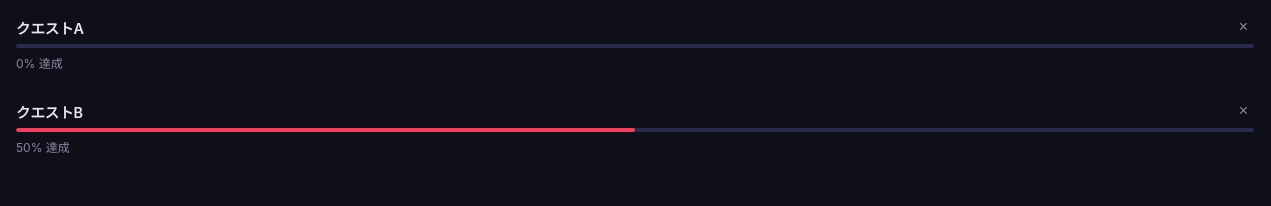
Test: QuestList › 削除確認→戻るで削除されない
The width and height of the screenshot is (1271, 206).
Click the 1st button titled "削除": (1243, 27) [1233,16,1254,38]
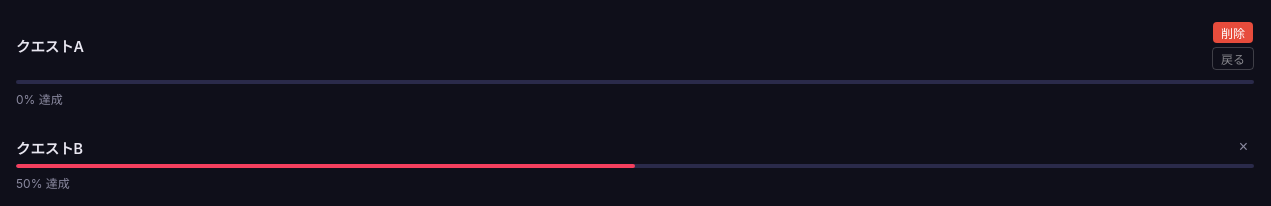
Click the button titled "キャンセル": (1233, 58) [1212,47,1254,70]
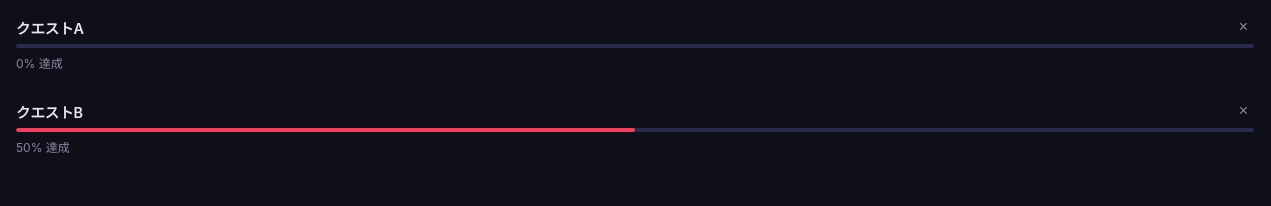
Result: the number of buttons titled "削除" is 2 at [1233,16,1254,38]; [1233,100,1254,122]
